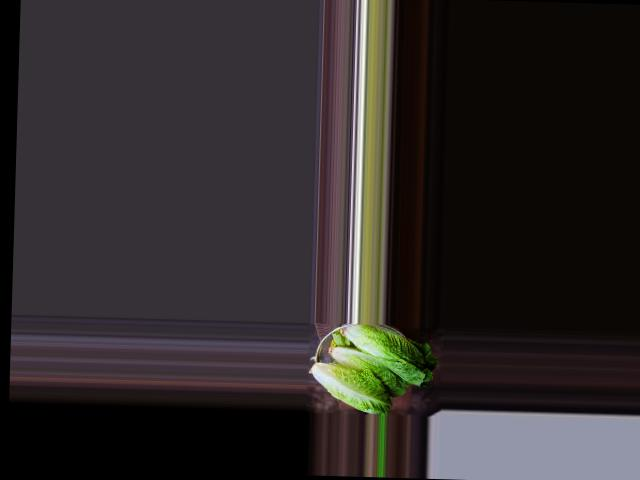lettuce: (331, 322, 435, 388)
